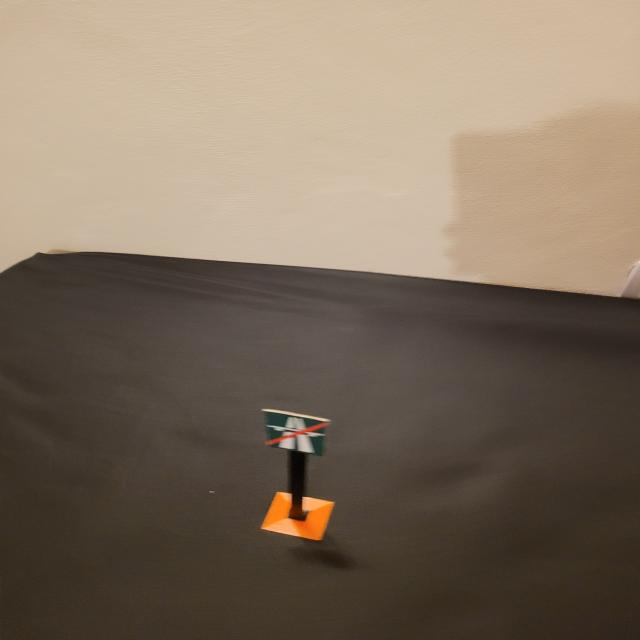highway_exit: (262, 408, 330, 459)
